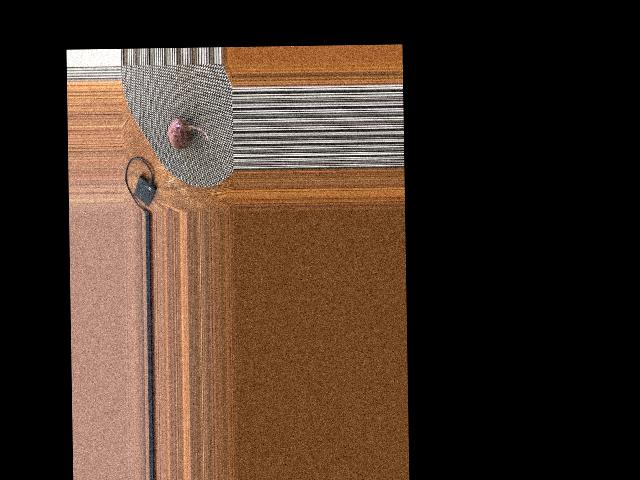beet: (168, 118, 209, 150)
